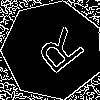R: (27, 25, 87, 82)
